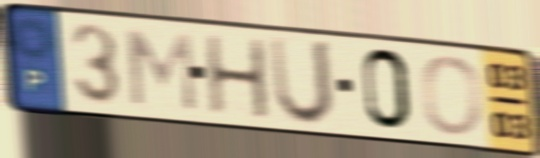0: (359, 46, 414, 134)
3: (68, 20, 123, 109)
H: (202, 33, 273, 122)
M: (123, 26, 200, 115)
O: (420, 53, 485, 138)
U: (266, 33, 337, 130)
